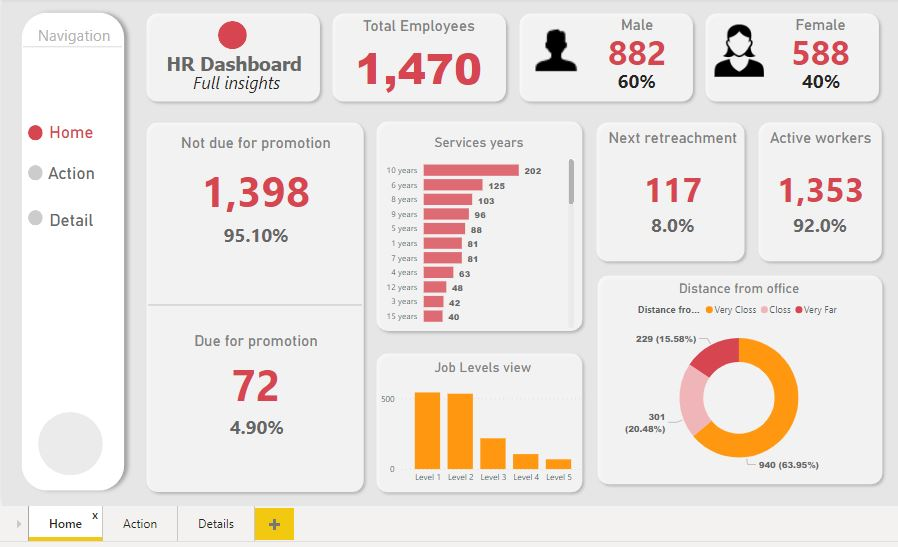

The page's visual inventory and layout, read from the dashboard file:
{"tool":"powerbi","page":{"name":"Home","canvas":[1280,720],"ordinal":0},"visuals":[{"type":"shape","box":[16.5,9.6,166.5,699.2],"z":0},{"type":"shape","box":[195.4,12.4,264.3,143.1],"z":1000},{"type":"shape","box":[459.7,12.4,264.3,143.1],"z":2000},{"type":"shape","box":[724,12.4,264.3,143.1],"z":3000},{"type":"shape","box":[988.2,12.4,264.3,143.1],"z":4000},{"type":"shape","box":[195.4,166.5,326.2,542.3],"z":5000},{"type":"shape","box":[521.6,166.2,309.7,315.2],"z":6000},{"type":"shape","box":[521.6,494.1,309.7,214.7],"z":7000},{"type":"shape","box":[834.8,384.2,421.6,314.1],"z":8000},{"type":"shape","box":[833.6,166.7,228.3,215],"z":9000},{"type":"shape","box":[1063.1,166.7,193.3,215],"z":10000},{"type":"textbox","box":[209.7,71.2,238.7,51.4],"z":11000},{"type":"textbox","box":[36.9,33,130.5,51.4],"z":12000},{"type":"textbox","box":[209.7,97.6,251.9,55.4],"z":13000},{"type":"shape","box":[305.9,33,40.9,39.6],"z":14000},{"type":"card","title":"Total Employees","fields":{"Values":["All Measures.Total Emp"]},"box":[468,27.5,246.4,112.9],"z":15000},{"type":"card","title":"Male","fields":{"Values":["All Measures.Male"]},"box":[814.8,26.2,170.7,75.7],"z":16000},{"type":"card","fields":{"Values":["All Measures.Male %"]},"box":[834.1,90.8,132.1,55.1],"z":17000},{"type":"card","title":"Female","fields":{"Values":["All Measures.Female"]},"box":[1068.7,26.2,183.1,75.7],"z":18000},{"type":"card","fields":{"Values":["All Measures.Female %"]},"box":[1083.9,90.8,152.8,53.7],"z":19000},{"type":"image","box":[736.3,26.2,95,90.8],"z":20000},{"type":"actionButton","title":"Home","box":[27.8,176.4,140.1,30.2],"z":21000},{"type":"image","box":[1004.7,33,79.8,84],"z":22000},{"type":"actionButton","title":"Action","box":[27.7,233.4,139.8,56.7],"z":23000},{"type":"card","title":"Active workers","fields":{"Values":["All Measures.On service"]},"box":[1058.3,186,203,142.6],"z":24000},{"type":"actionButton","title":"Detail","box":[27.7,300.7,139.8,58],"z":25000},{"type":"card","fields":{"Values":["All Measures.% Active workers"]},"box":[1082.4,296,153.4,53.2],"z":26000},{"type":"card","title":"Next retreachment","fields":{"Values":["All Measures.Due for retirment"]},"box":[843.2,186,215,142.6],"z":27000},{"type":"card","fields":{"Values":["All Measures.%Due for retirment"]},"box":[865,296,171.5,53.2],"z":28000},{"type":"columnChart","title":"Job Levels view","fields":{"Category":["HR Analytics Data.Job Level"],"Y":["All Measures.Total Emp"]},"box":[531.3,512,300,185.8],"z":29000},{"type":"barChart","title":"Services years","fields":{"Category":["HR Analytics Data.Total working Years"],"Y":["All Measures.Total Emp"]},"box":[536.4,192.1,280.3,280.3],"z":30000},{"type":"donutChart","title":"Distance from office","fields":{"Category":["HR Analytics Data.Distance from office"],"Y":["All Measures.Total Emp"]},"box":[840.8,399.9,408.3,282.7],"z":31000},{"type":"card","title":"Not due for promotion","fields":{"Values":["All Measures.Not Due"]},"box":[207.8,192.1,303.2,130.5],"z":32000},{"type":"card","title":"Due for promotion","fields":{"Values":["All Measures.Due for promotion"]},"box":[209,473.8,303.2,119.6],"z":33000},{"type":"shape","box":[206.6,427.7,303.2,14.5],"z":34000},{"type":"card","fields":{"Values":["All Measures.% Not due for promotion"]},"box":[283.5,309.7,152.8,53.7],"z":35000},{"type":"card","fields":{"Values":["All Measures.% Due for promotion"]},"box":[285.1,582.5,152.2,53.2],"z":36000},{"type":"shape","box":[36.9,180.7,21.1,22.4],"z":37000},{"type":"shape","box":[36.9,236,21.1,22.4],"z":38000},{"type":"shape","box":[36.9,300.7,21.1,22.4],"z":39000},{"type":"shape","box":[51.4,586.8,92.3,89.7],"z":40000},{"type":"shape","box":[30.2,61.6,140.1,15.7],"z":41000}]}

Visuals, with their boxes on the page's 1280x720 design canvas (x1, y1, x2, y2). These are canvas units, not pixel positions in the 898x547 screenshot, which may show the page scaled, cropped or inside an application window:
shape: box(16, 10, 183, 709)
shape: box(195, 12, 460, 156)
shape: box(460, 12, 724, 156)
shape: box(724, 12, 988, 156)
shape: box(988, 12, 1252, 156)
shape: box(195, 166, 522, 709)
shape: box(522, 166, 831, 481)
shape: box(522, 494, 831, 709)
shape: box(835, 384, 1256, 698)
shape: box(834, 167, 1062, 382)
shape: box(1063, 167, 1256, 382)
textbox: box(210, 71, 448, 123)
textbox: box(37, 33, 167, 84)
textbox: box(210, 98, 462, 153)
shape: box(306, 33, 347, 73)
"Total Employees" card: box(468, 28, 714, 140)
"Male" card: box(815, 26, 986, 102)
card - All Measures.Male %: box(834, 91, 966, 146)
"Female" card: box(1069, 26, 1252, 102)
card - All Measures.Female %: box(1084, 91, 1237, 144)
image: box(736, 26, 831, 117)
"Home" actionButton: box(28, 176, 168, 207)
image: box(1005, 33, 1084, 117)
"Action" actionButton: box(28, 233, 168, 290)
"Active workers" card: box(1058, 186, 1261, 329)
"Detail" actionButton: box(28, 301, 168, 359)
card - All Measures.% Active workers: box(1082, 296, 1236, 349)
"Next retreachment" card: box(843, 186, 1058, 329)
card - All Measures.%Due for retirment: box(865, 296, 1036, 349)
"Job Levels view" columnChart: box(531, 512, 831, 698)
"Services years" barChart: box(536, 192, 817, 472)
"Distance from office" donutChart: box(841, 400, 1249, 683)
"Not due for promotion" card: box(208, 192, 511, 323)
"Due for promotion" card: box(209, 474, 512, 593)
shape: box(207, 428, 510, 442)
card - All Measures.% Not due for promotion: box(284, 310, 436, 363)
card - All Measures.% Due for promotion: box(285, 582, 437, 636)
shape: box(37, 181, 58, 203)
shape: box(37, 236, 58, 258)
shape: box(37, 301, 58, 323)
shape: box(51, 587, 144, 676)
shape: box(30, 62, 170, 77)
